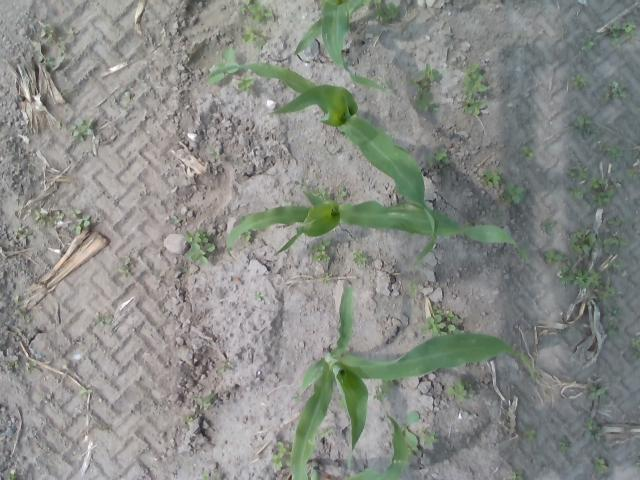Maize: (290, 282, 540, 480), (207, 62, 439, 270), (225, 192, 533, 266), (294, 0, 398, 98), (301, 414, 409, 480)
Weeds: (418, 304, 464, 338), (408, 62, 439, 112), (462, 62, 488, 115), (557, 260, 602, 289), (181, 227, 214, 266), (207, 46, 240, 82), (33, 40, 66, 71), (398, 410, 420, 456), (568, 226, 602, 255), (444, 378, 476, 404), (588, 176, 614, 208), (240, 0, 274, 24), (362, 0, 398, 20), (240, 24, 265, 52), (270, 441, 294, 470), (607, 22, 637, 44), (573, 115, 600, 139), (34, 208, 64, 229), (602, 80, 628, 104), (68, 208, 91, 234), (502, 182, 526, 206), (72, 118, 95, 142), (374, 378, 393, 403), (586, 380, 608, 401), (312, 239, 331, 263), (425, 148, 450, 166), (14, 222, 35, 243), (584, 417, 603, 440), (597, 144, 624, 160), (608, 306, 622, 335), (602, 236, 627, 252), (310, 185, 332, 203), (568, 162, 590, 180), (598, 280, 616, 301), (118, 255, 134, 278), (237, 76, 257, 94), (418, 429, 438, 446), (194, 393, 216, 408), (544, 249, 567, 263), (594, 456, 610, 476), (38, 22, 55, 40), (482, 170, 501, 186), (570, 73, 587, 90), (352, 248, 366, 268), (94, 314, 114, 328), (14, 308, 32, 323), (630, 336, 640, 361), (607, 215, 626, 227), (207, 145, 221, 161), (570, 186, 586, 200), (520, 144, 534, 160), (182, 410, 200, 422), (558, 436, 570, 454), (581, 38, 596, 52), (23, 360, 39, 373), (508, 468, 524, 480), (200, 471, 220, 480), (522, 427, 534, 441), (607, 260, 622, 271), (409, 282, 418, 300), (242, 228, 252, 243), (78, 386, 93, 396), (7, 358, 19, 370), (542, 220, 554, 232), (320, 428, 333, 439), (337, 396, 348, 409), (171, 214, 186, 223), (337, 186, 348, 198), (64, 23, 74, 36), (320, 271, 330, 282), (6, 469, 16, 480), (627, 168, 638, 178), (253, 292, 264, 301), (463, 221, 482, 226), (492, 210, 502, 219), (532, 371, 542, 379), (122, 90, 132, 98), (12, 294, 20, 303), (56, 119, 62, 129), (635, 457, 640, 469), (218, 366, 226, 373), (294, 180, 302, 186), (60, 88, 66, 96), (294, 395, 301, 401)
